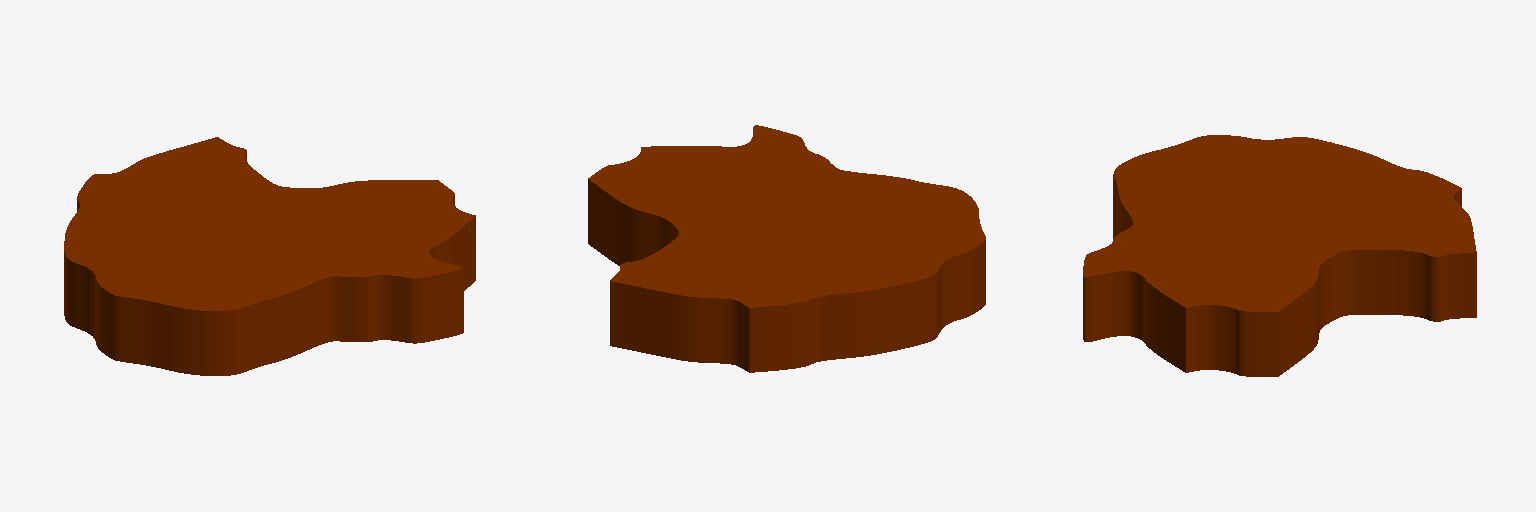
Rendered from Africa_05.obj.
3 views of the same model, side by side, from view 1: azimuth 30°, elevation 25°; view 2: azimuth 150°, elevation 25°; view 3: azimuth 270°, elevation 25° (orthographic).
Parts seen in each view (by area): view 1: Africa_05_path4226; view 2: Africa_05_path4226; view 3: Africa_05_path4226.
Part boxes in pixels (left/top/right/bottom): Africa_05_path4226: left=64, top=137, right=475, bottom=375; Africa_05_path4226: left=588, top=125, right=985, bottom=372; Africa_05_path4226: left=1083, top=135, right=1476, bottom=376.
Size of the model in its own units: 0.5825 by 0.1 by 0.5488.